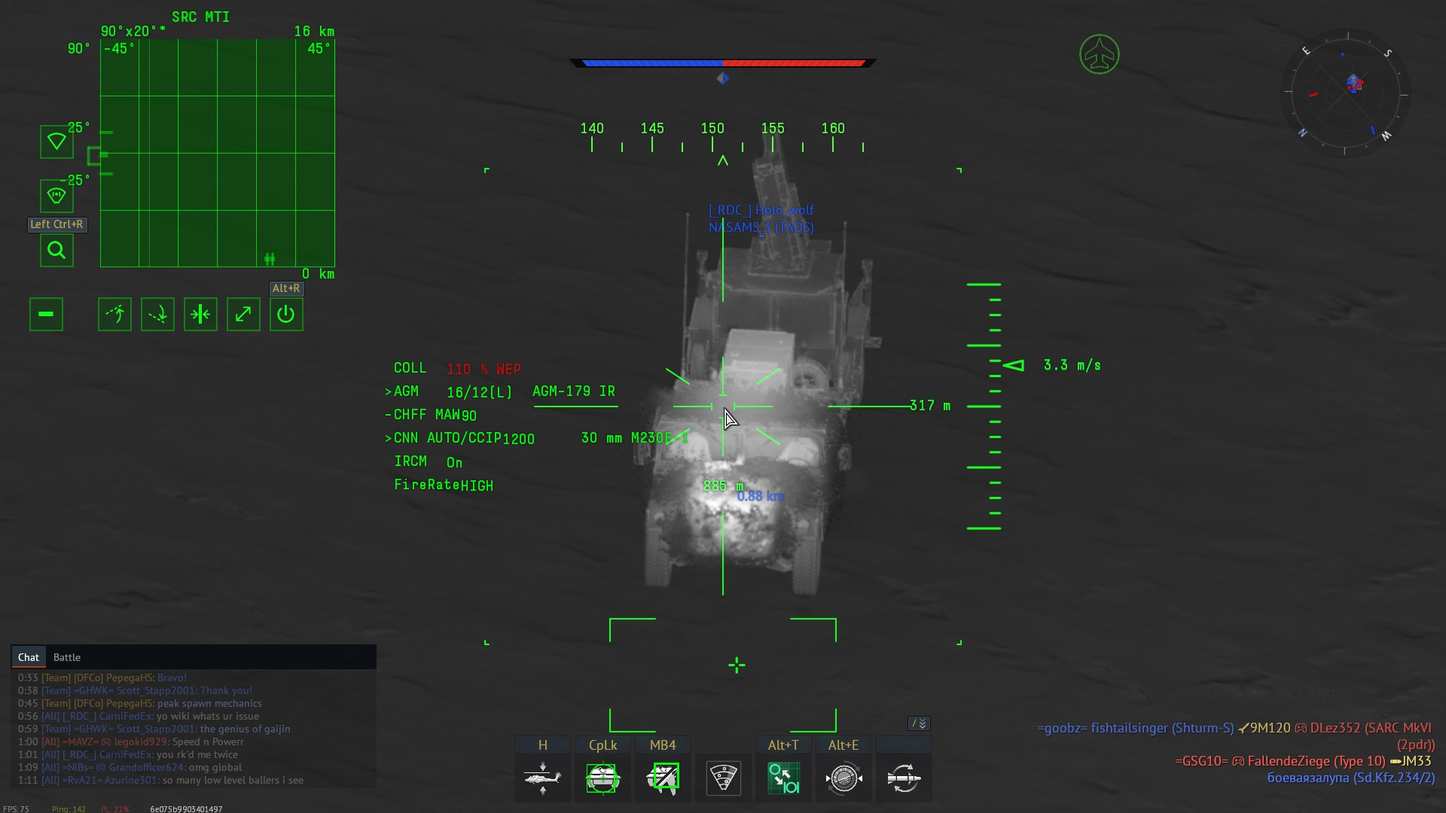spaa_tads: (632, 127, 880, 594)
